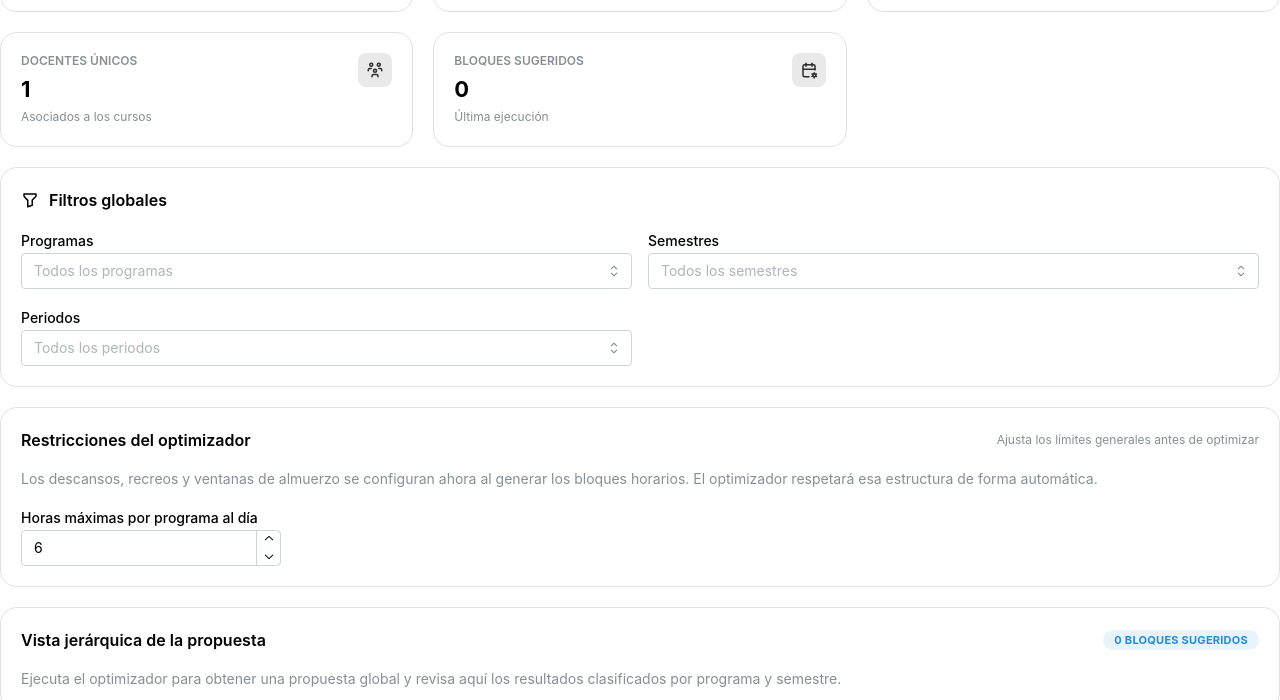
Test: GlobalScheduleOptimizer › ejecuta optimizador global con parámetros configurables
(page scrolled)
Replace the text in the field labelled "Horas máximas por programa al día" with "8". click: (151, 548)
box: left=21, top=530, right=281, bottom=566
(page scrolled)
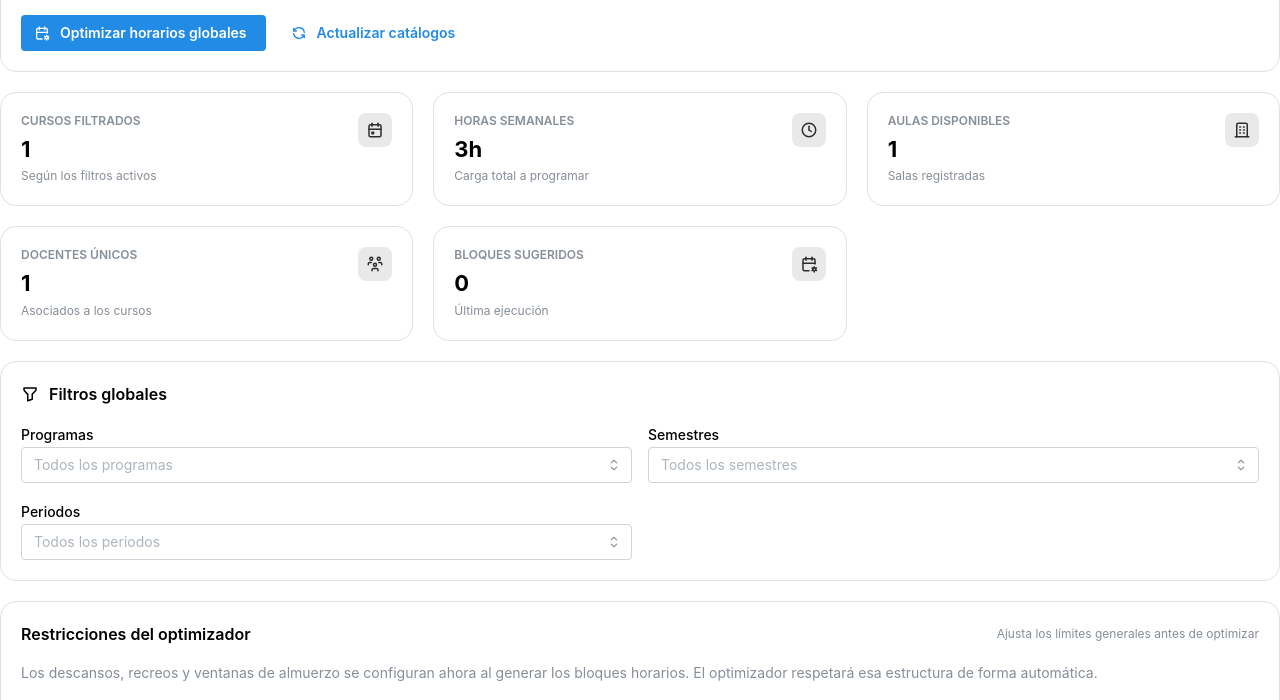
Click the button "Optimizar horarios globales". click: (143, 33)
box: left=21, top=15, right=266, bottom=51
(page scrolled)
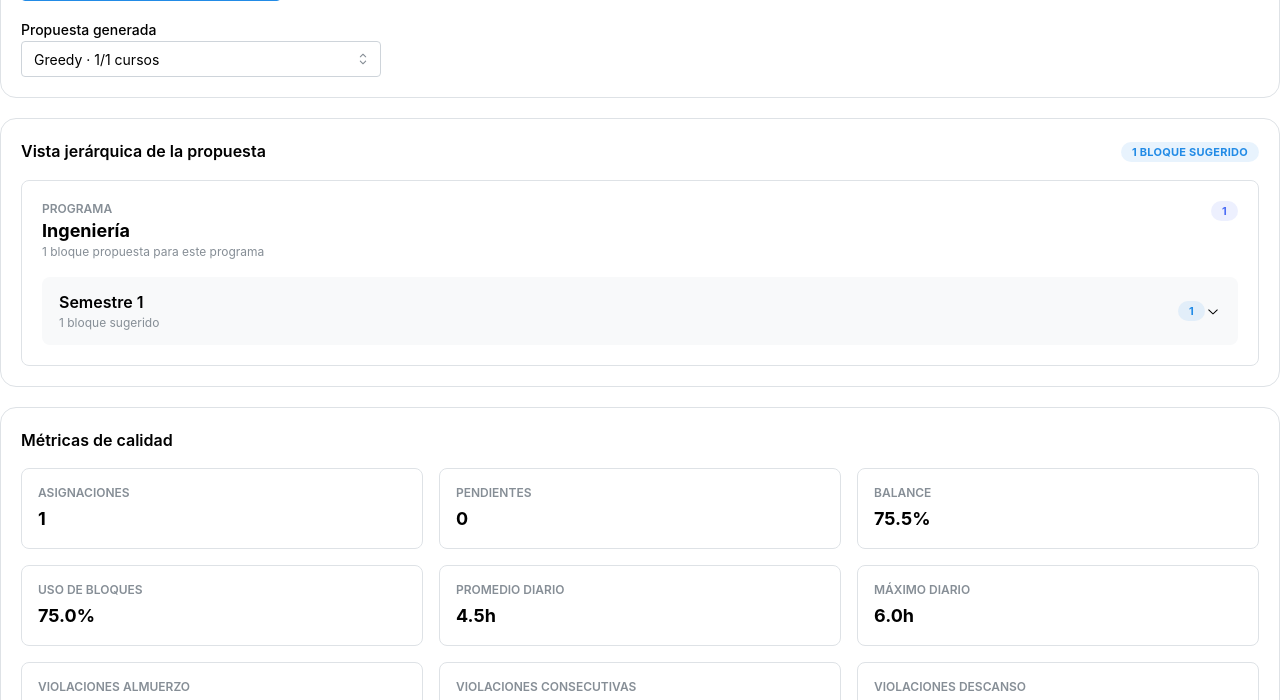
Now the heading "Ingeniería" is shown, box left=42, top=220, right=130, bottom=241
Now the button "Semestre 1 1 bloque sugerido 1" is shown
Click the button "Semestre 1 1 bloque sugerido 1". click: (101, 302)
box: left=43, top=278, right=1237, bottom=344
(page scrolled)
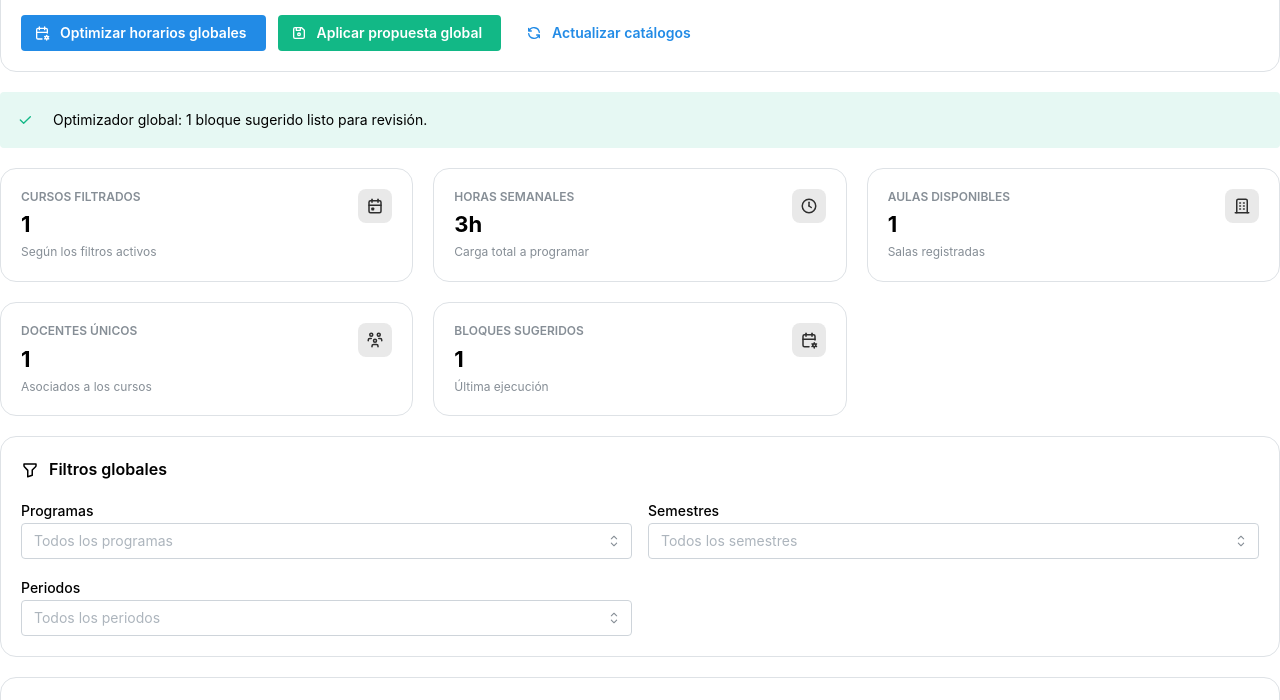
Now the text "Optimizador global: 1 bloque sugerido listo para revisión." is shown, box left=53, top=111, right=427, bottom=128
Click the button "Aplicar propuesta global". click: (389, 33)
box: left=278, top=15, right=501, bottom=51
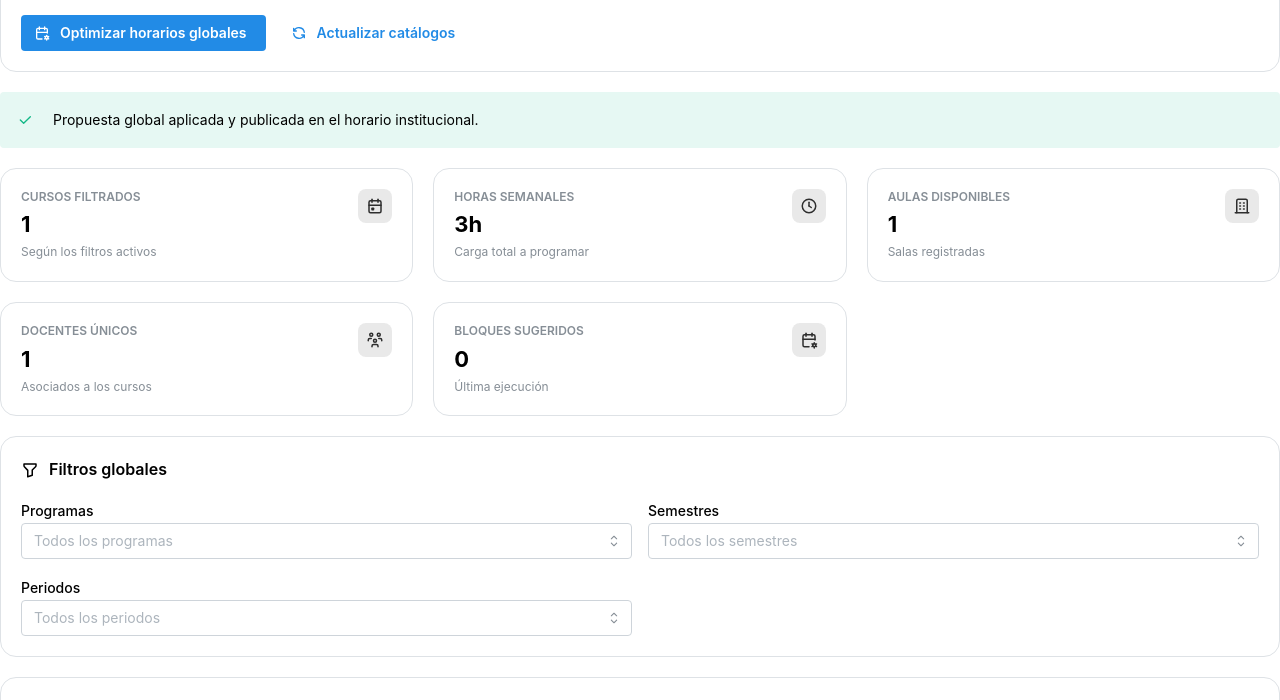
Now the text "Propuesta global aplicada y publicada en el horario institucional." is shown, box left=53, top=111, right=478, bottom=128
Now the button "Aplicar propuesta global" is gone
